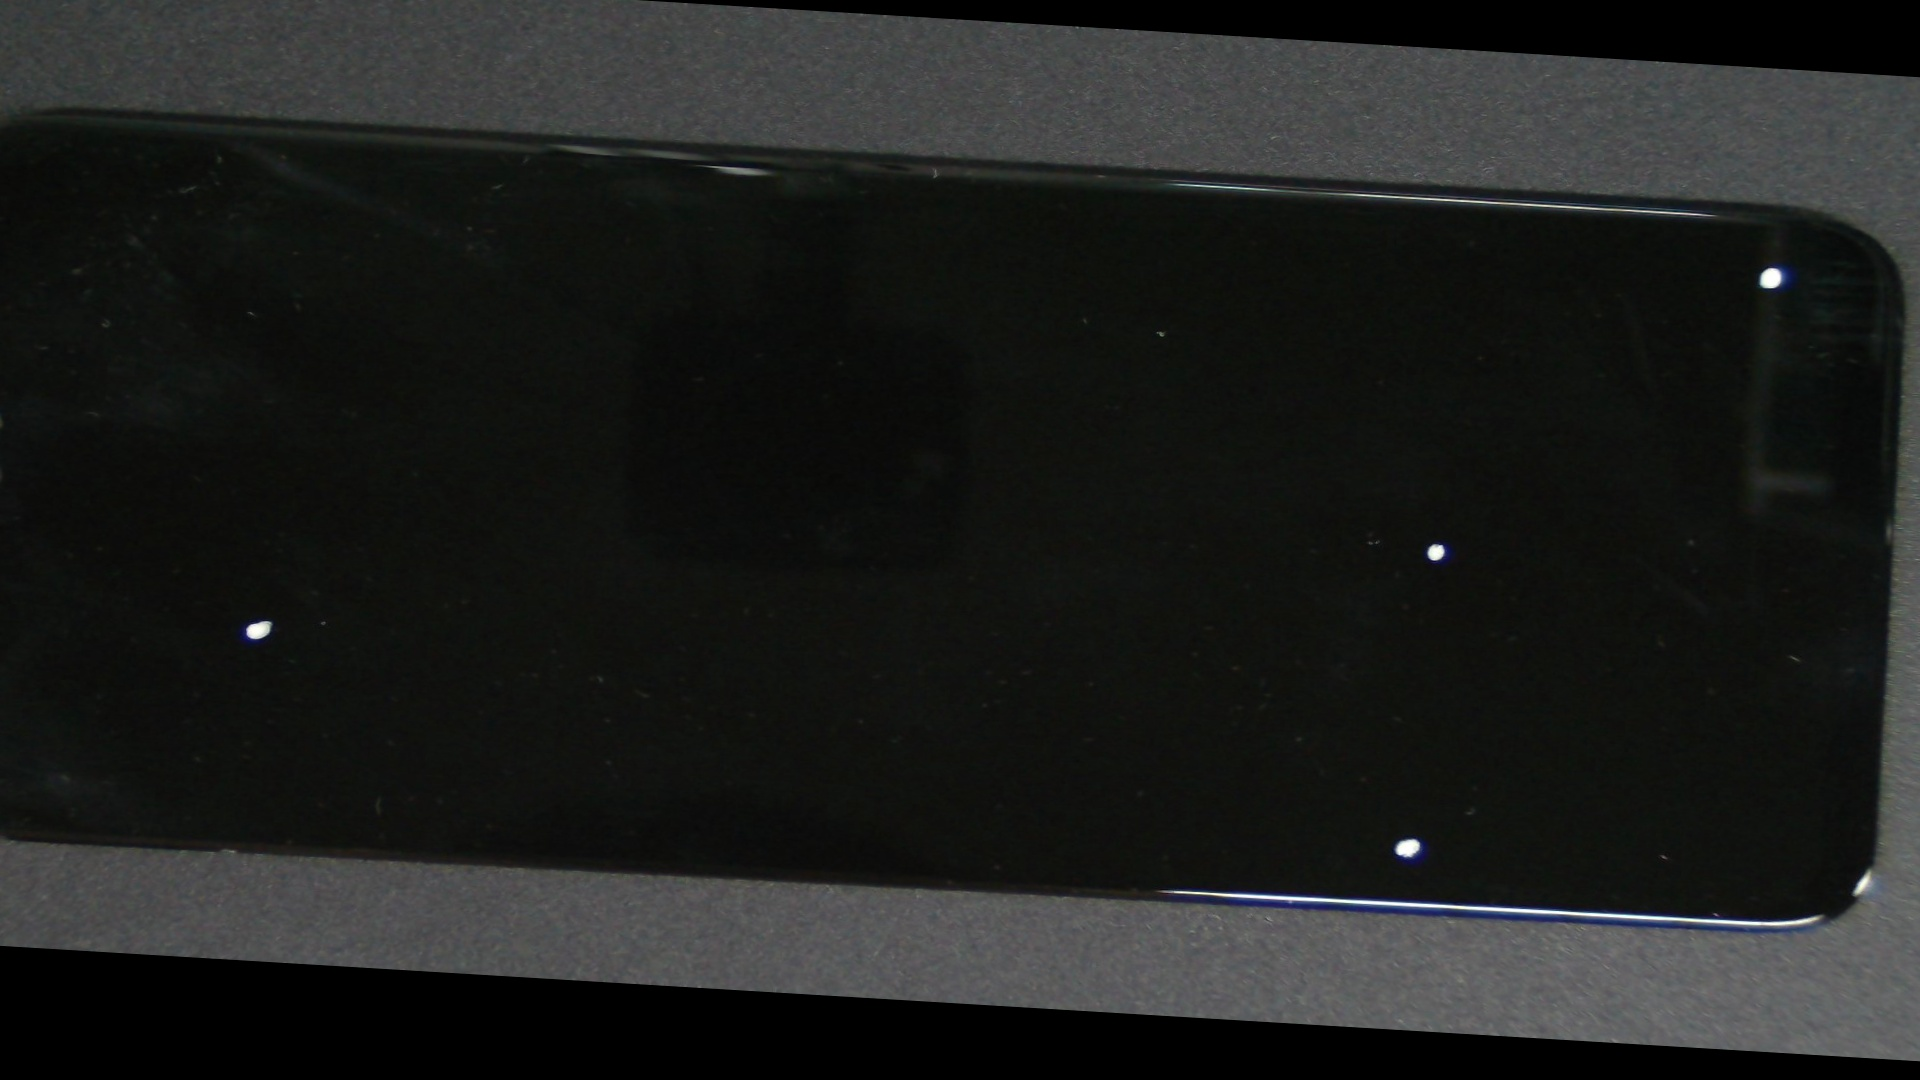oil: (583, 394, 1920, 1064), (600, 247, 1920, 824), (7, 285, 517, 955), (790, 108, 1920, 380)
